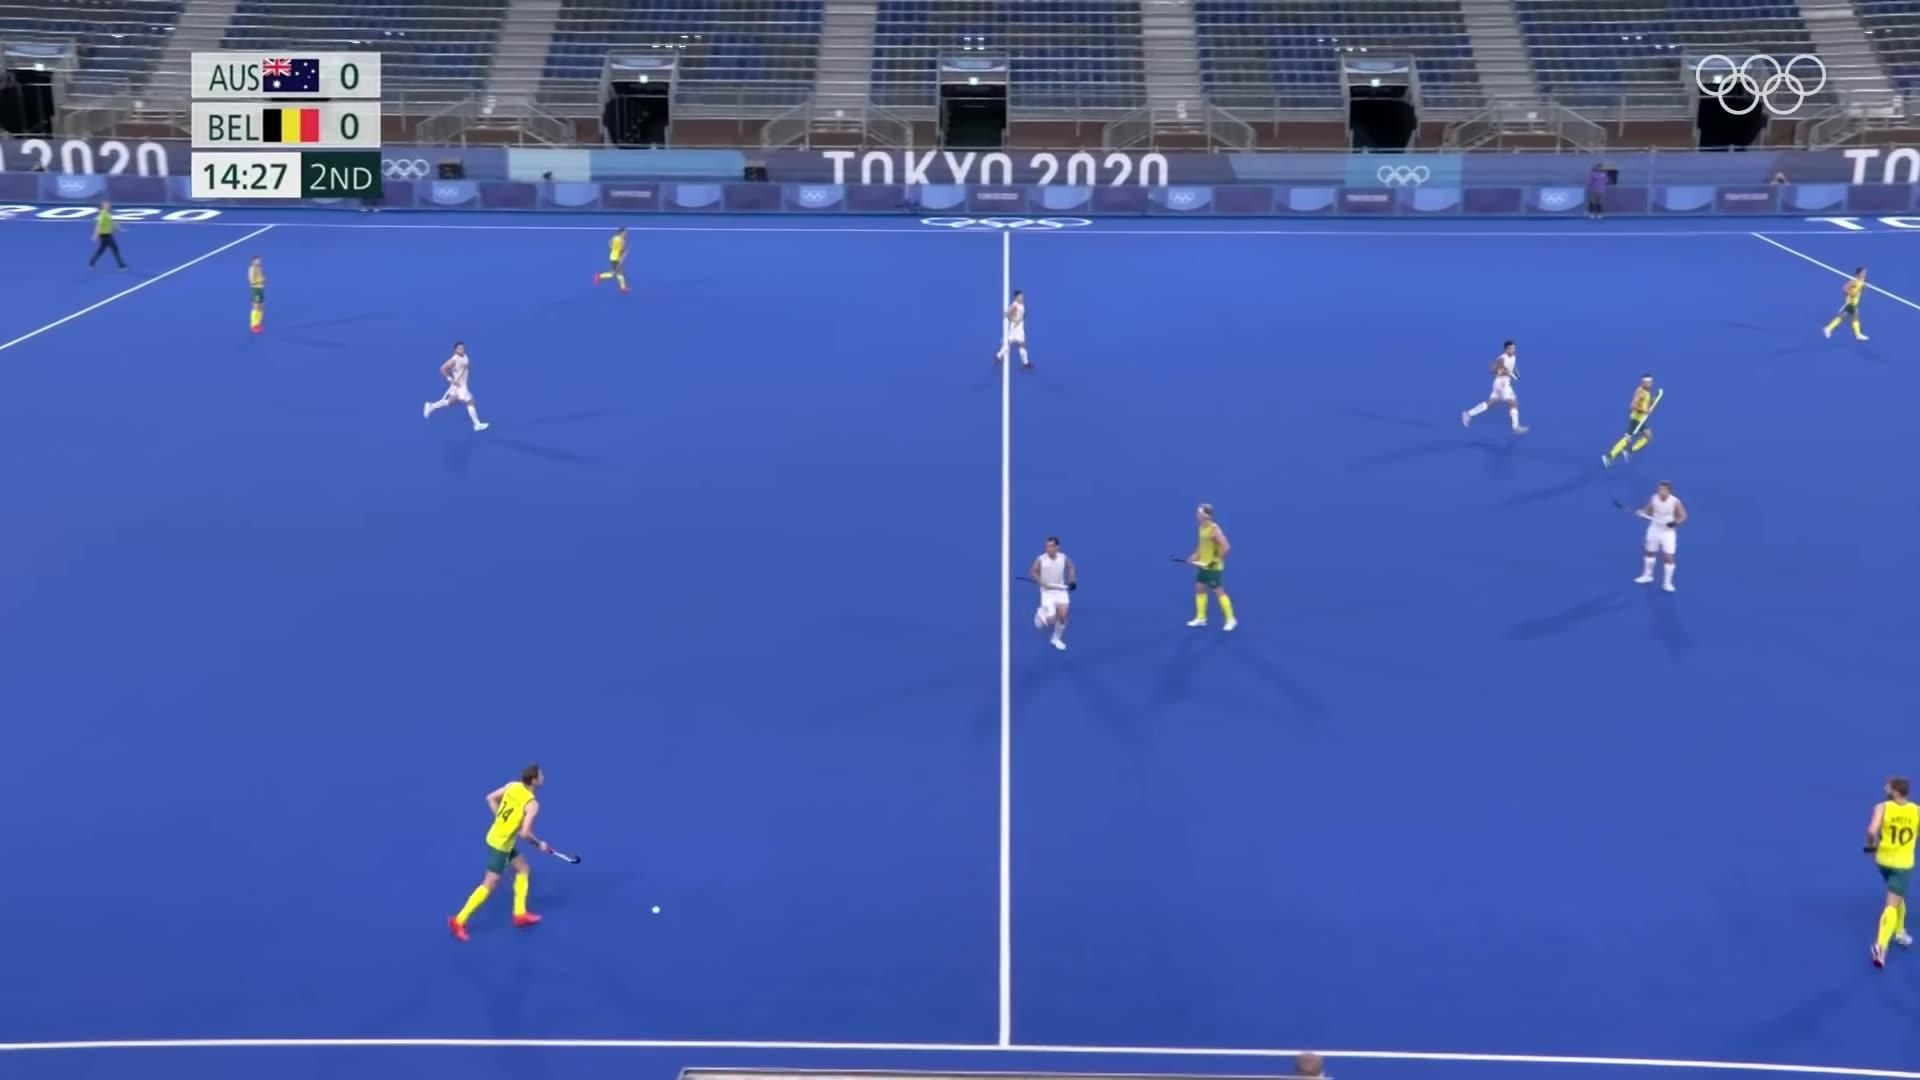ball: (646, 897, 665, 923)
